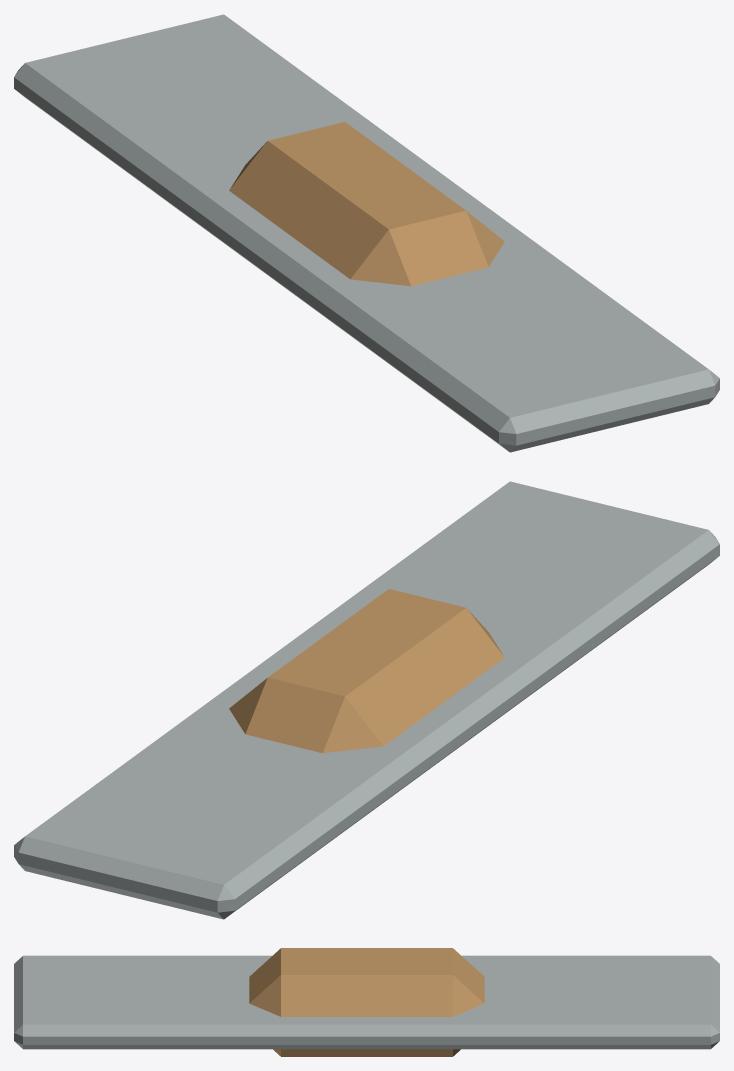
File: Tool_Saw.fbx
3 renders of one model, top to bottom at view 1: azimuth 30°, elevation 25°; view 2: azimuth 150°, elevation 25°; view 3: azimuth 270°, elevation 25°, orthographic. The views are drawn at different scales.
Parts seen in each view (by area): view 1: Tool_Saw; view 2: Tool_Saw; view 3: Tool_Saw.
Part boxes in pixels (left/top/right/bottom): Tool_Saw: left=14, top=14, right=719, bottom=452; Tool_Saw: left=14, top=481, right=719, bottom=919; Tool_Saw: left=14, top=948, right=719, bottom=1056.
Bounding box in the file's own units: 0.1436 × 0.0718 × 0.56.
